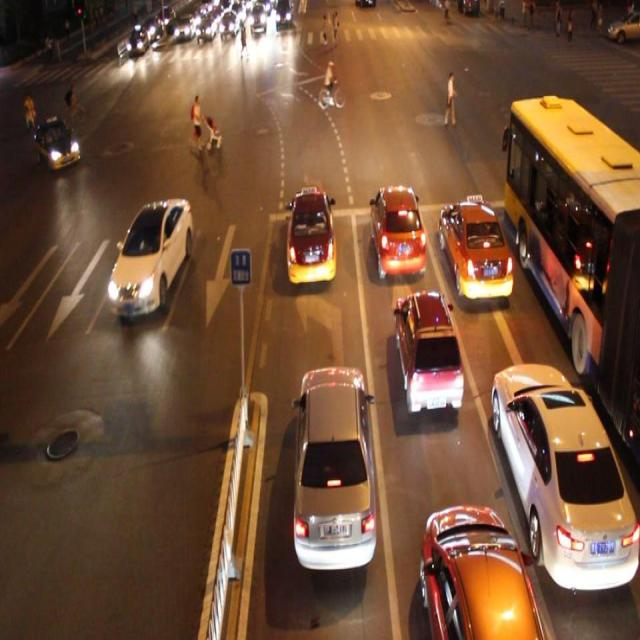car: (490, 360, 640, 593), (291, 359, 377, 574), (422, 500, 541, 640), (110, 198, 192, 323), (392, 290, 462, 413), (439, 195, 513, 304), (368, 181, 426, 278), (283, 186, 336, 288), (36, 115, 81, 172)
van: (506, 95, 640, 456)
